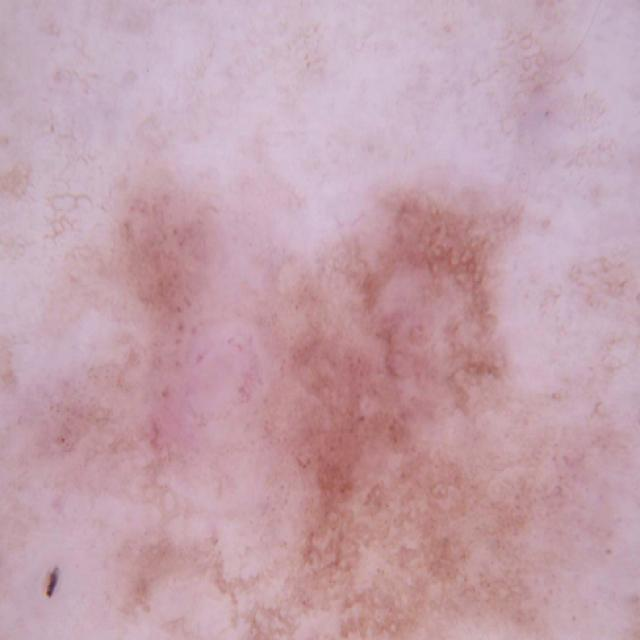Carcinoma: (65, 143, 616, 637)
